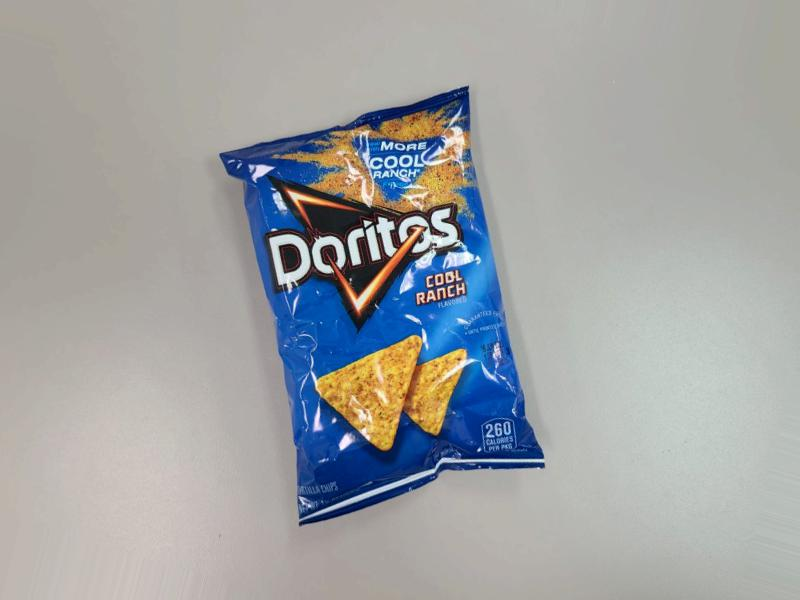doritos: (223, 170, 587, 600)
